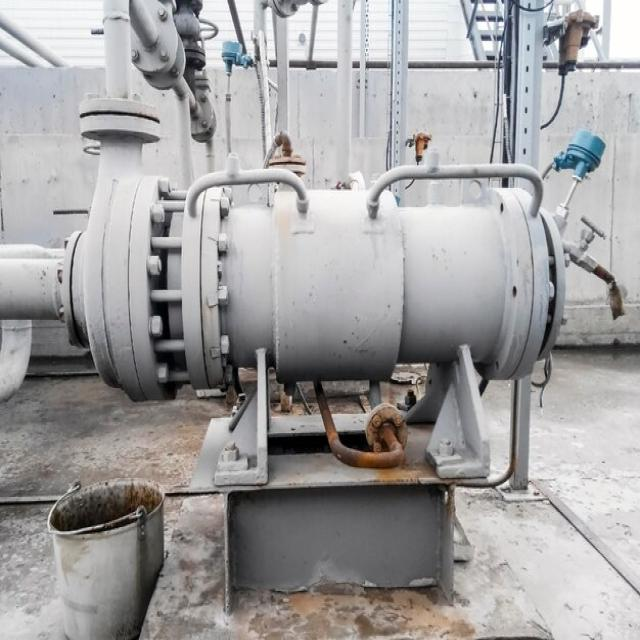compressor: (0, 125, 639, 462), (540, 127, 606, 236)
